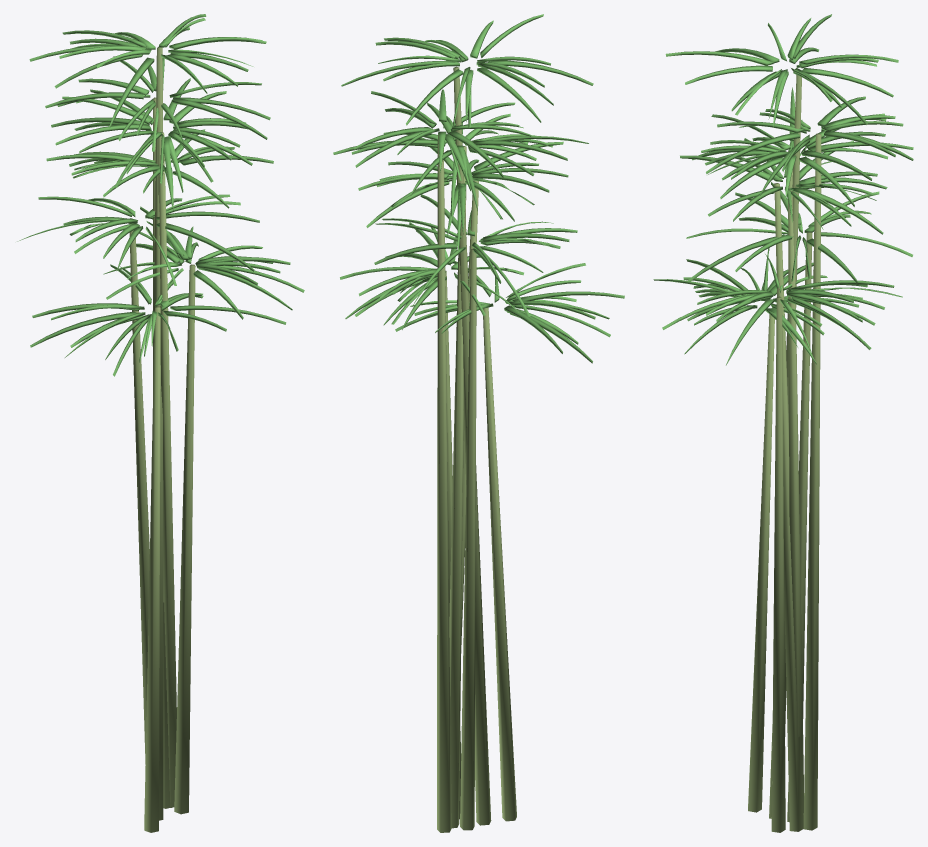
File: papyrus_2.glb
3 views of the same model, side by side, from view 1: azimuth 30°, elevation 25°; view 2: azimuth 150°, elevation 25°; view 3: azimuth 270°, elevation 25° (orthographic).
Visible parts, largest first — view 1: papyrus; view 2: papyrus; view 3: papyrus.
Boxes of the visible parts, x1,y1,x2,y2 form: papyrus: (17,14,304,832); papyrus: (333,14,624,832); papyrus: (653,14,913,832).
Size of the model in its own units: 0.5768 by 1.75 by 0.5398.
